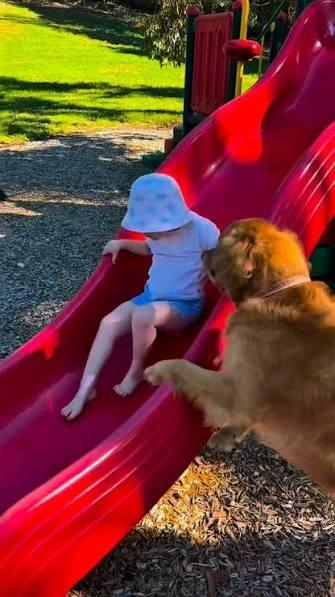adult_dog: (144, 219, 335, 505)
non-dog: (60, 171, 221, 421)
